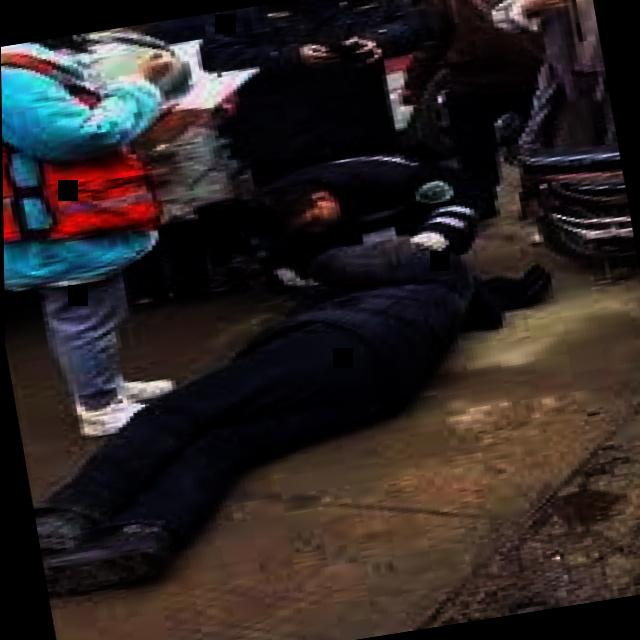Fall-Detected: (2, 206, 594, 627)
